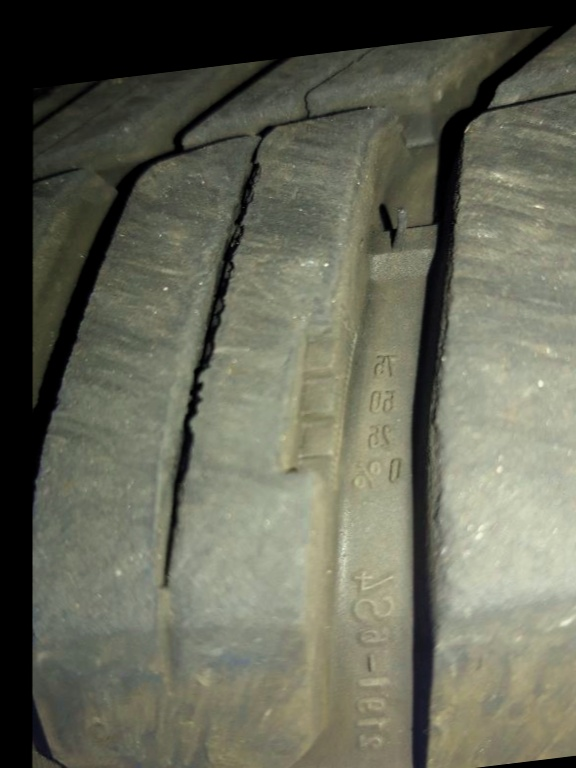temoin:90: (276, 288, 363, 506)
